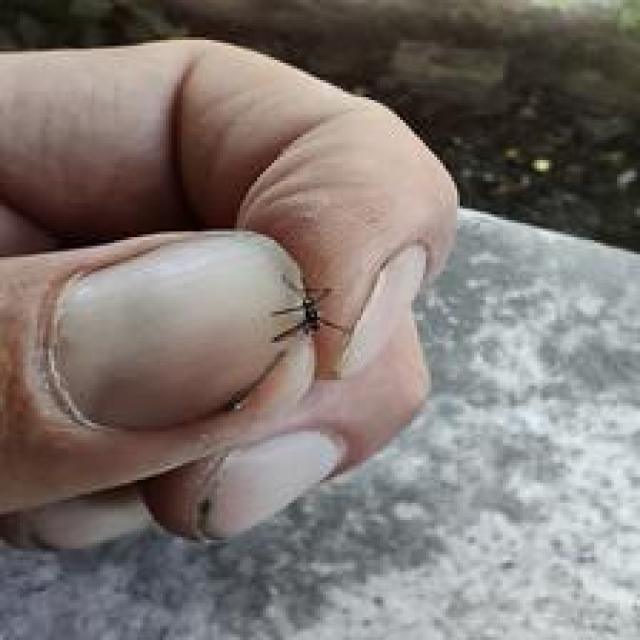Aedes albopictus: (268, 274, 348, 346)
